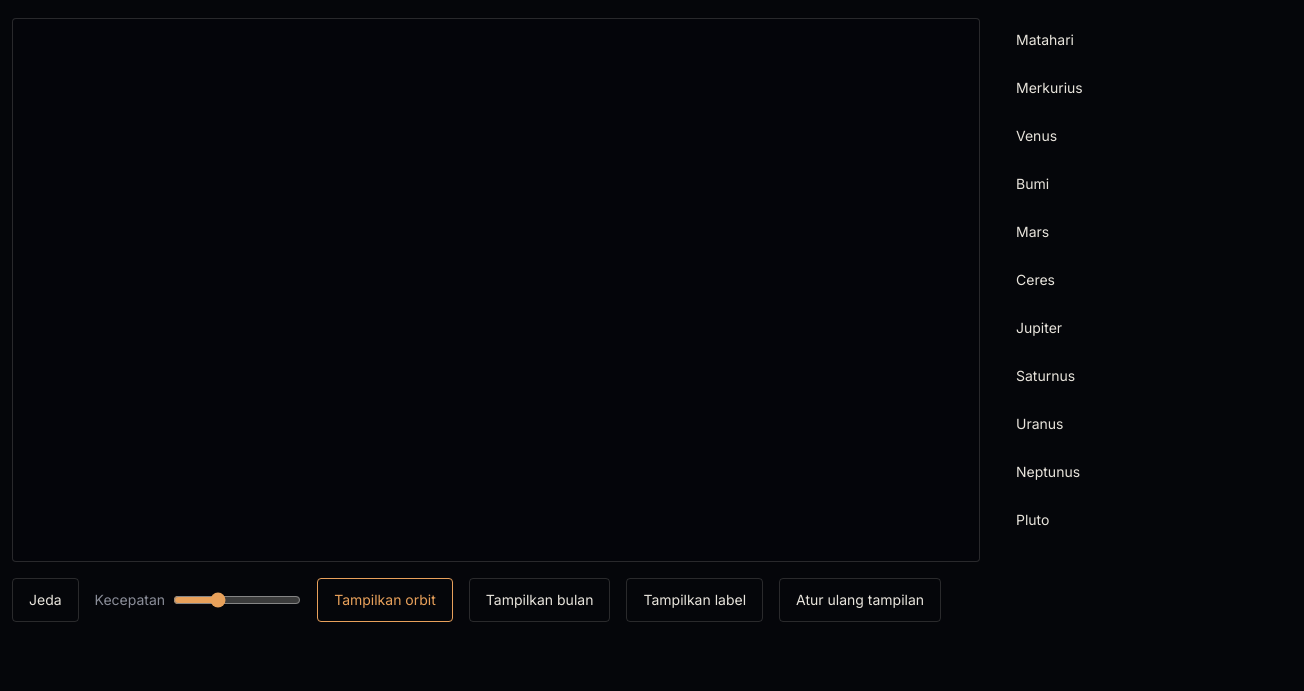
Test: SolarSystem3D › opens the info card with the Indonesian copy after selecting a body
Click the button "Jupiter": click(1039, 327) [1004,306,1292,350]
(page scrolled)
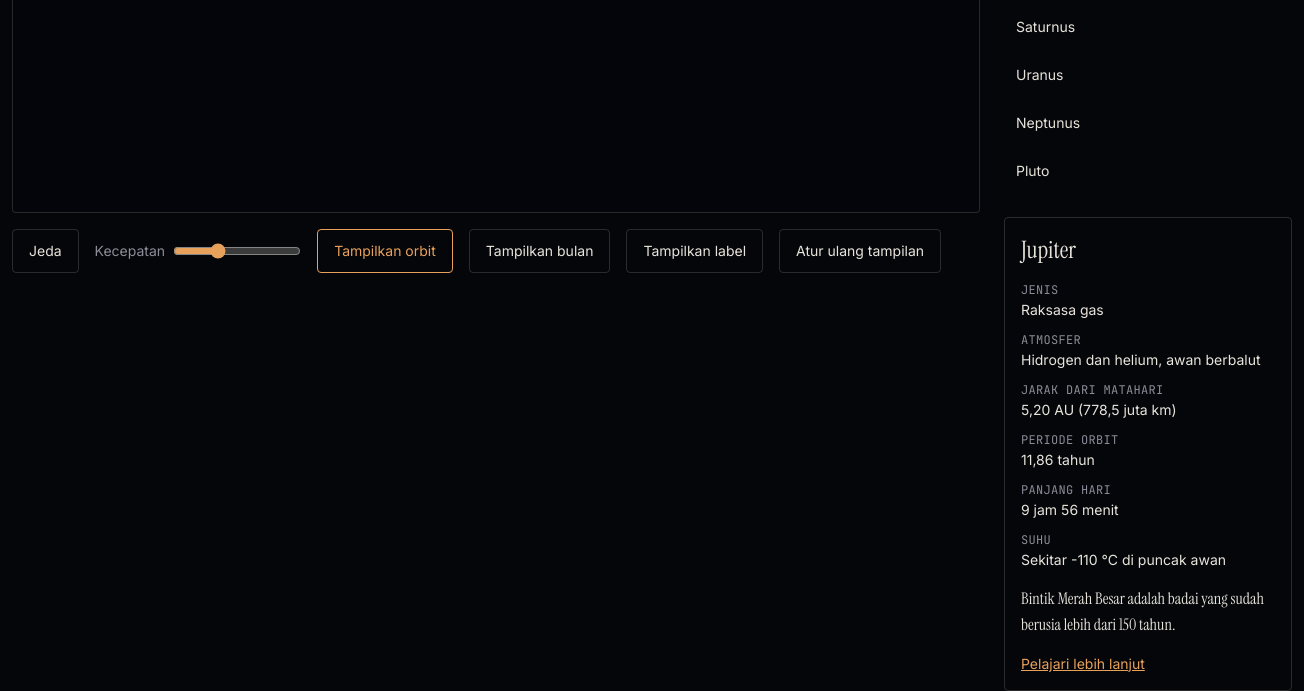
expect the text "Raksasa gas" is shown: met, box [1021,301,1104,318]
expect the text "Jenis" is shown: met, box [1021,282,1058,298]
